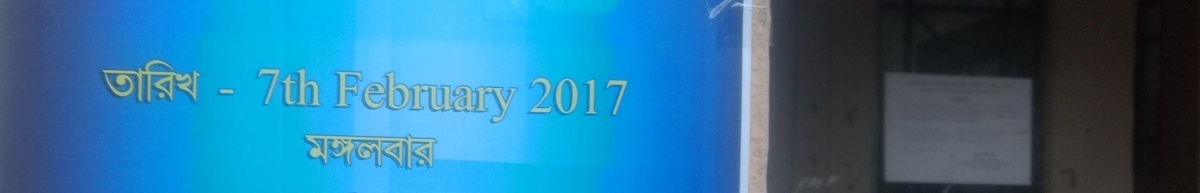text: (337, 67, 352, 126), (353, 67, 368, 126), (369, 67, 384, 126), (385, 67, 400, 126), (401, 67, 416, 126), (417, 67, 432, 126), (433, 67, 448, 126), (449, 67, 464, 126), (465, 67, 480, 126), (481, 67, 496, 126), (497, 67, 512, 126), (113, 58, 128, 108), (129, 58, 144, 108), (145, 58, 160, 108), (161, 58, 176, 108), (177, 58, 192, 108), (193, 58, 208, 108), (209, 58, 224, 108), (225, 58, 240, 108), (529, 73, 544, 122), (545, 73, 560, 122), (561, 73, 576, 122), (577, 73, 592, 122), (593, 73, 608, 122), (609, 73, 624, 122), (257, 63, 272, 108), (273, 63, 288, 108), (289, 63, 304, 108), (305, 63, 320, 108), (305, 131, 320, 171), (321, 131, 336, 171), (337, 131, 352, 171), (353, 131, 368, 171), (369, 131, 384, 171), (385, 131, 400, 171), (401, 131, 416, 171), (417, 131, 432, 171), (101, 58, 112, 108), (513, 67, 520, 126), (625, 73, 631, 122), (433, 131, 440, 171), (332, 67, 336, 126), (321, 63, 324, 108), (302, 131, 304, 171), (241, 58, 242, 108), (527, 73, 528, 122)
